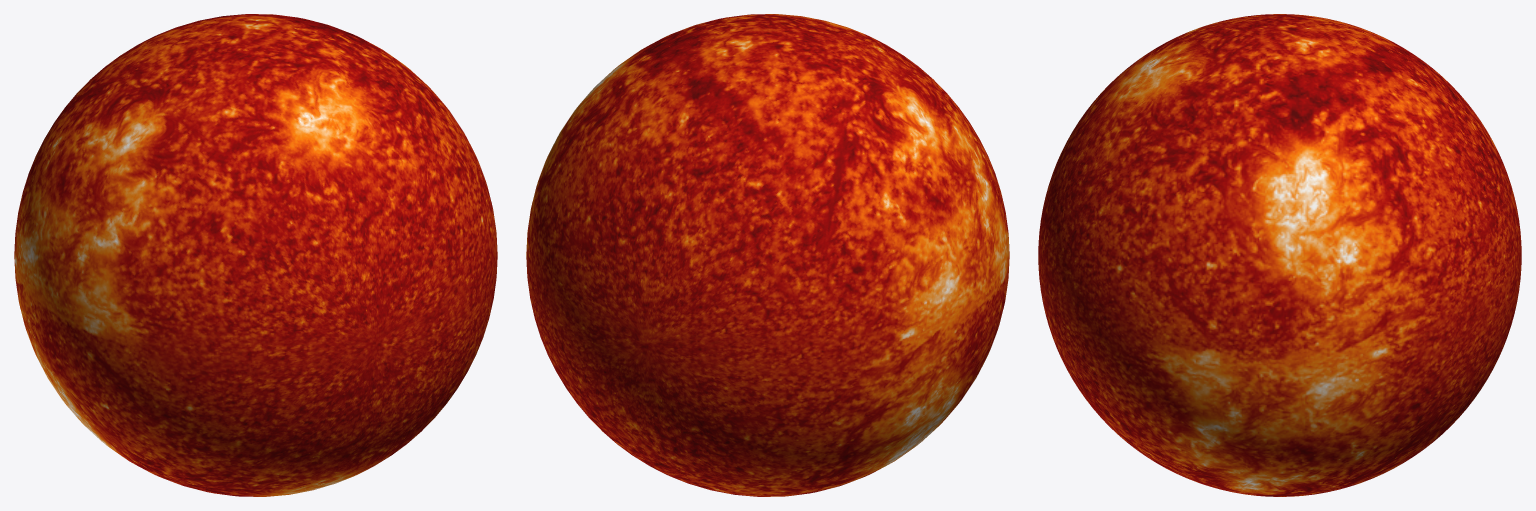
Rendered from Sole.obj.
3 views of the same model, side by side, from view 1: azimuth 30°, elevation 25°; view 2: azimuth 150°, elevation 25°; view 3: azimuth 270°, elevation 25° (orthographic).
Visible parts, largest first — view 1: Plane_Plane.001; view 2: Plane_Plane.001; view 3: Plane_Plane.001.
Boxes of the visible parts, x1,y1,x2,y2 form: Plane_Plane.001: [14, 14, 497, 496]; Plane_Plane.001: [526, 14, 1009, 496]; Plane_Plane.001: [1038, 14, 1521, 496].
Bounding box in the file's own units: 1.27 × 1.27 × 1.27.
Materials: 1 (1 with a texture image).
